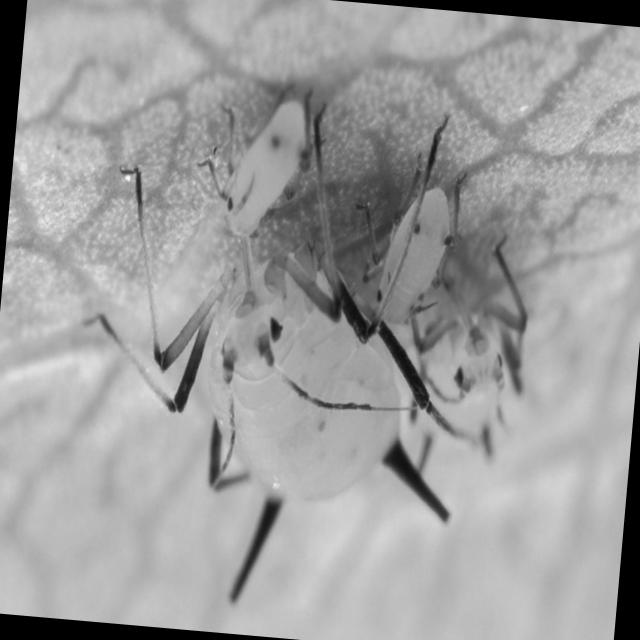Aphids: (120, 202, 430, 536), (406, 222, 540, 458), (192, 74, 330, 250), (358, 132, 478, 332)
